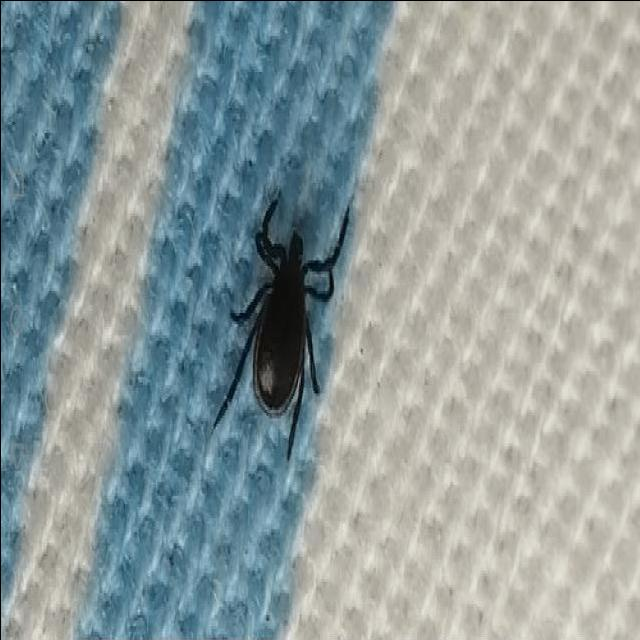Ixodes Ricinus-M: (210, 199, 347, 463)
